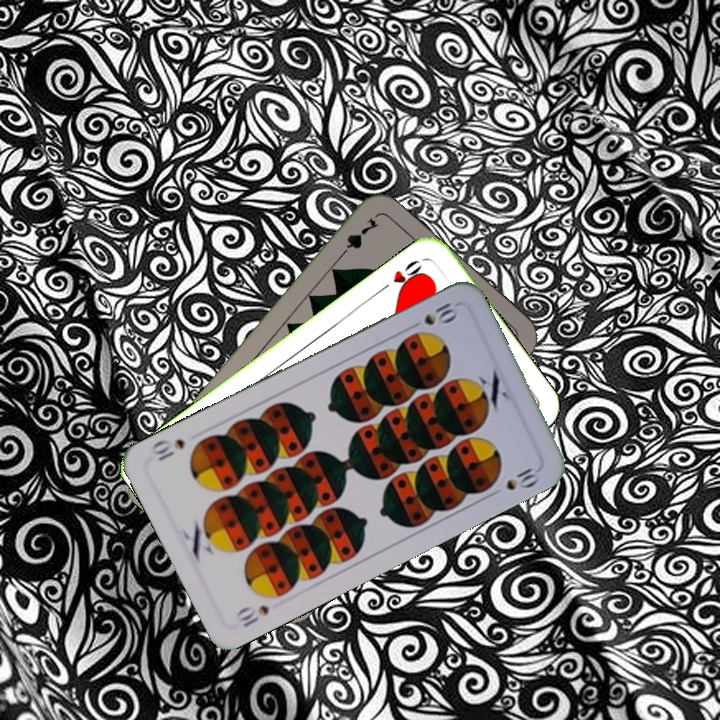G7: (334, 213, 382, 262)
HO: (375, 255, 427, 295)
S10: (405, 296, 461, 332), (232, 601, 272, 631)
